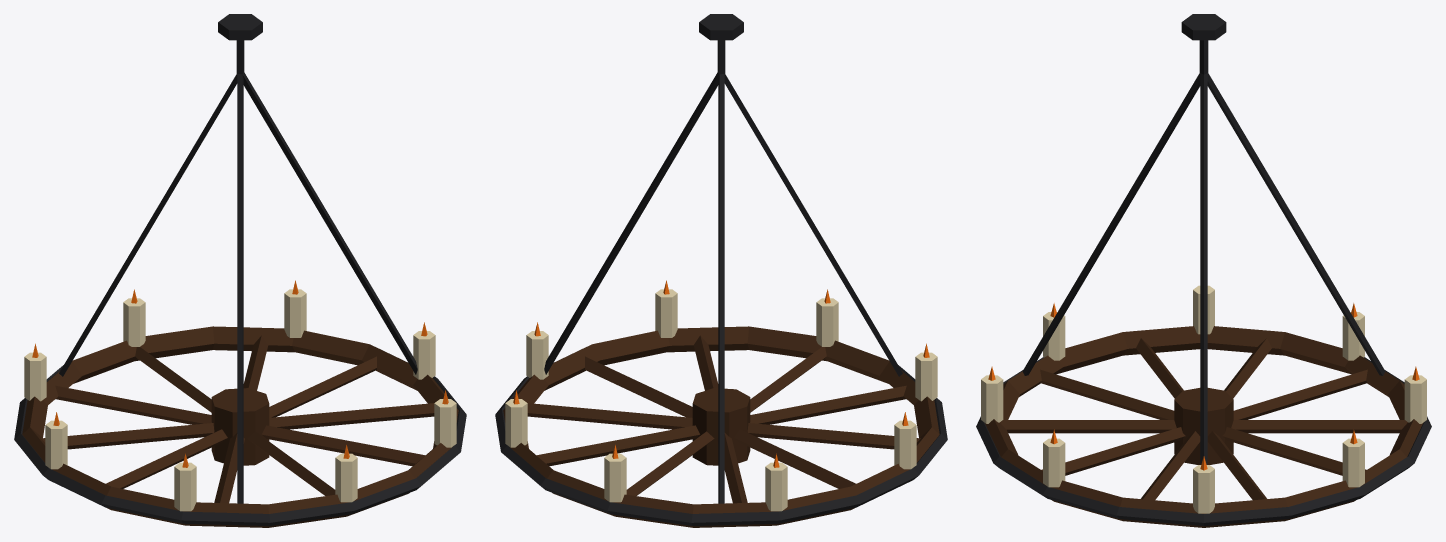
The model's file is SM_Chandelier_Wheel.obj.
The picture shows the model from 3 angles, left to right: view 1: azimuth 30°, elevation 25°; view 2: azimuth 150°, elevation 25°; view 3: azimuth 270°, elevation 25°; orthographic projection.
Parts seen in each view (by area): view 1: SM_Chandelier_Wheel; view 2: SM_Chandelier_Wheel; view 3: SM_Chandelier_Wheel.
Part boxes in pixels (x1,y1,x2,y2): SM_Chandelier_Wheel: (14, 14, 466, 527); SM_Chandelier_Wheel: (495, 14, 947, 527); SM_Chandelier_Wheel: (976, 14, 1431, 527).
Size of the model in its own units: 1.23 by 1.28 by 1.23.
